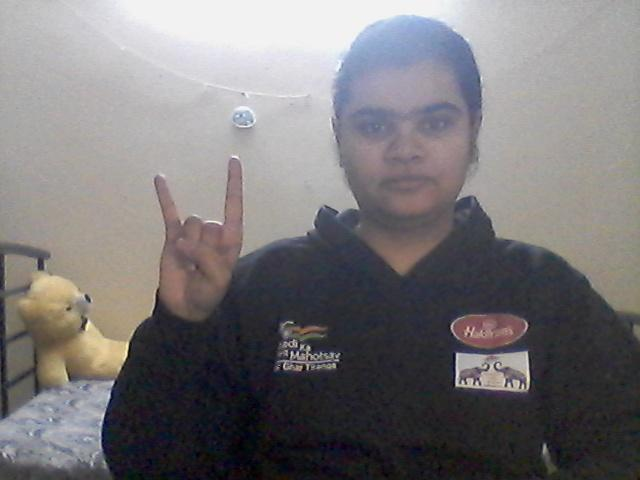ilove you: (142, 156, 250, 330)
